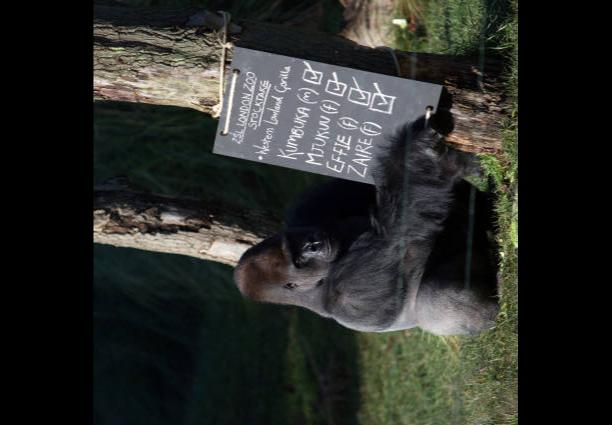gorille_Autres: (232, 176, 506, 334)
